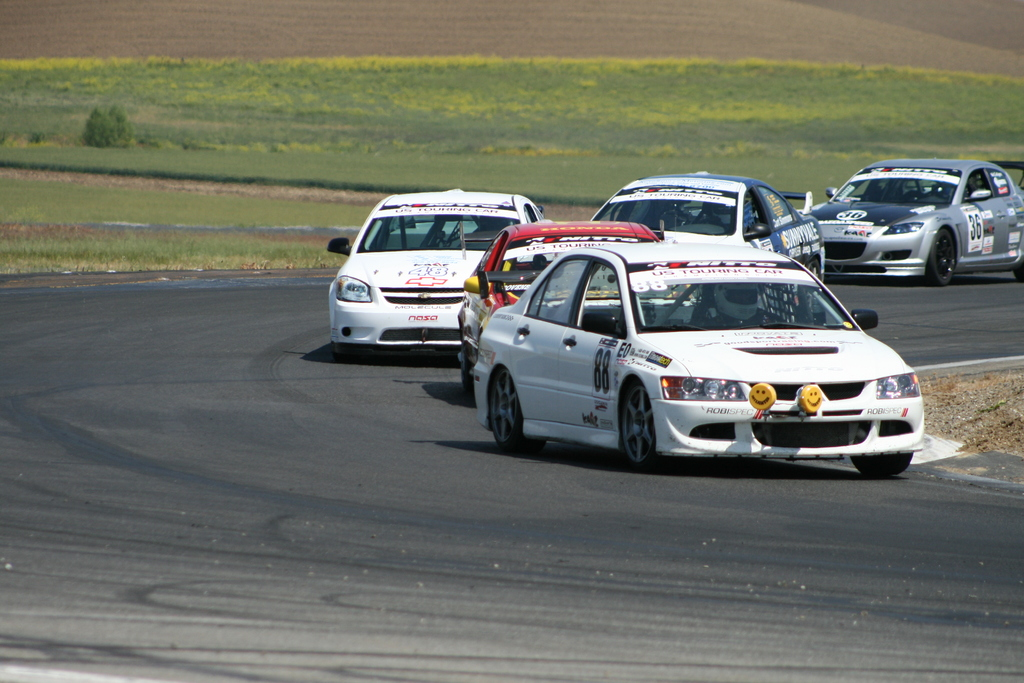Car: (474, 241, 925, 479), (324, 186, 544, 356), (458, 220, 654, 394), (586, 169, 828, 283), (810, 157, 1023, 279)
